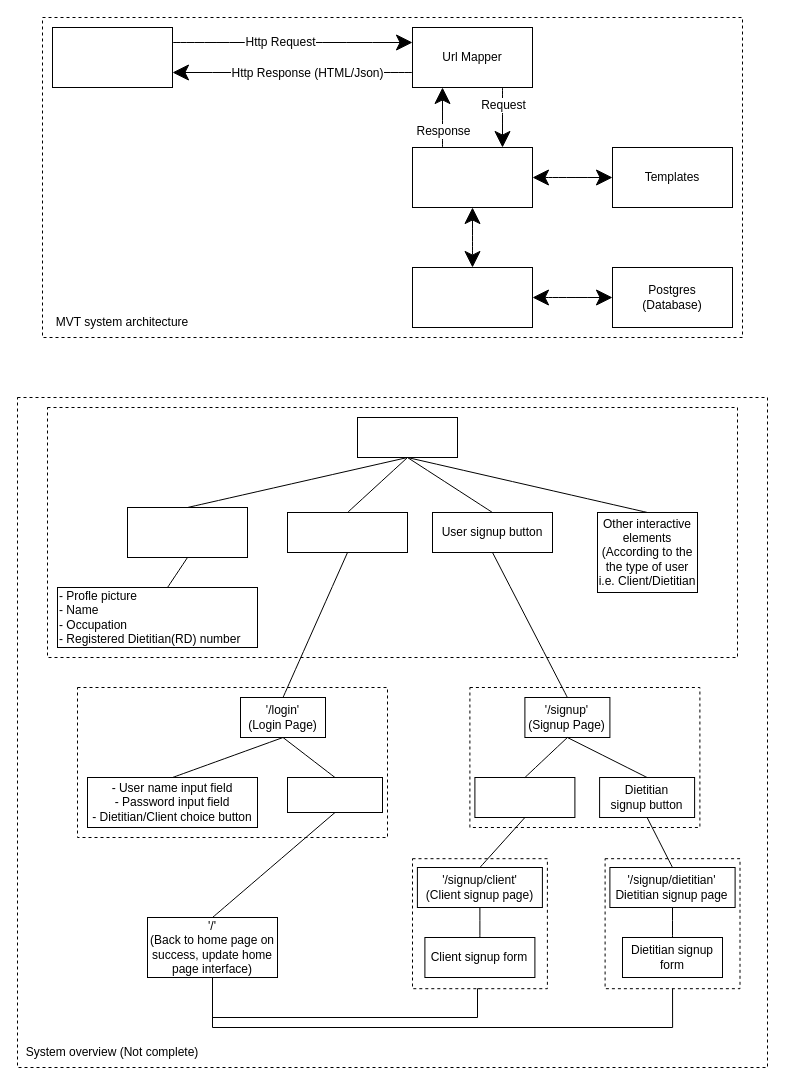
The diagram is 785 pixels wide and 1085 high, and some of its shapes have lost their labels. Each missing label, with the centre of its shape:
"'/' (Home Page)" goes at point 407,437.
"Client/Patient signup button" goes at point 524,797.
"Display Dietitians available for consultations" goes at point 187,532.
"Models (ORM/ Data access object layer)" goes at point 472,297.
"RESTful Client (Mobile/Web app)" goes at point 112,57.
"Submit button" goes at point 334,794.
"User login button" goes at point 347,532.
"Views (Business logic)" goes at point 472,177.
